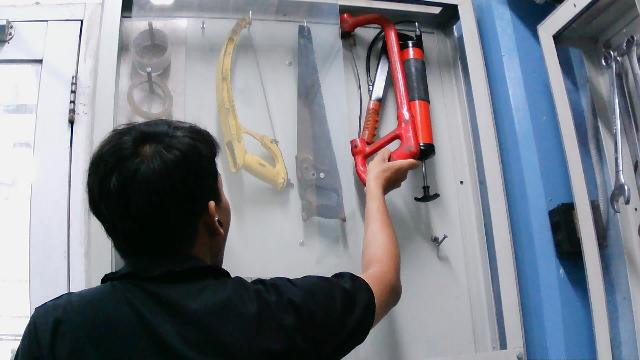gergaji_besi: (339, 11, 423, 195)
